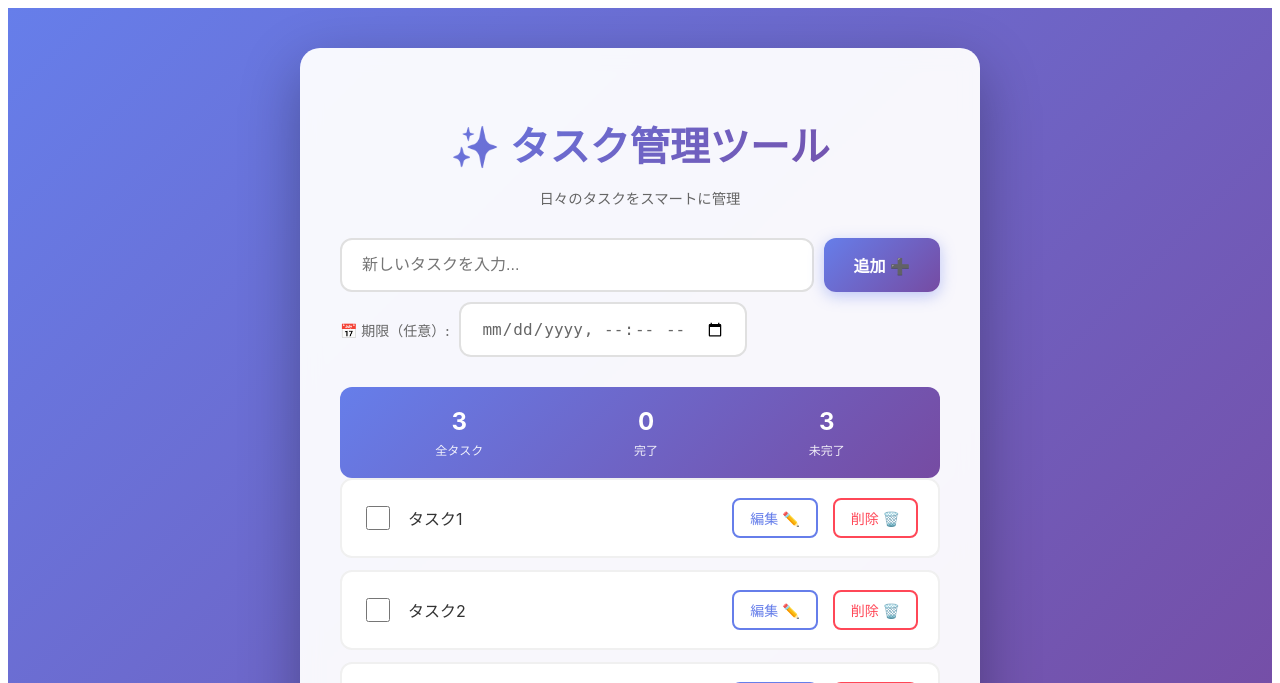
Test: App Component Tests › タスクの削除 › 複数のタスクを順番に削除できる
The width and height of the screenshot is (1280, 683).
Expected: the text "タスク1" is shown, [408,509,462,529]
Click the button "削除 🗑️" in the row of "タスク2". click: (875, 610)
box: [833,590,918,630]
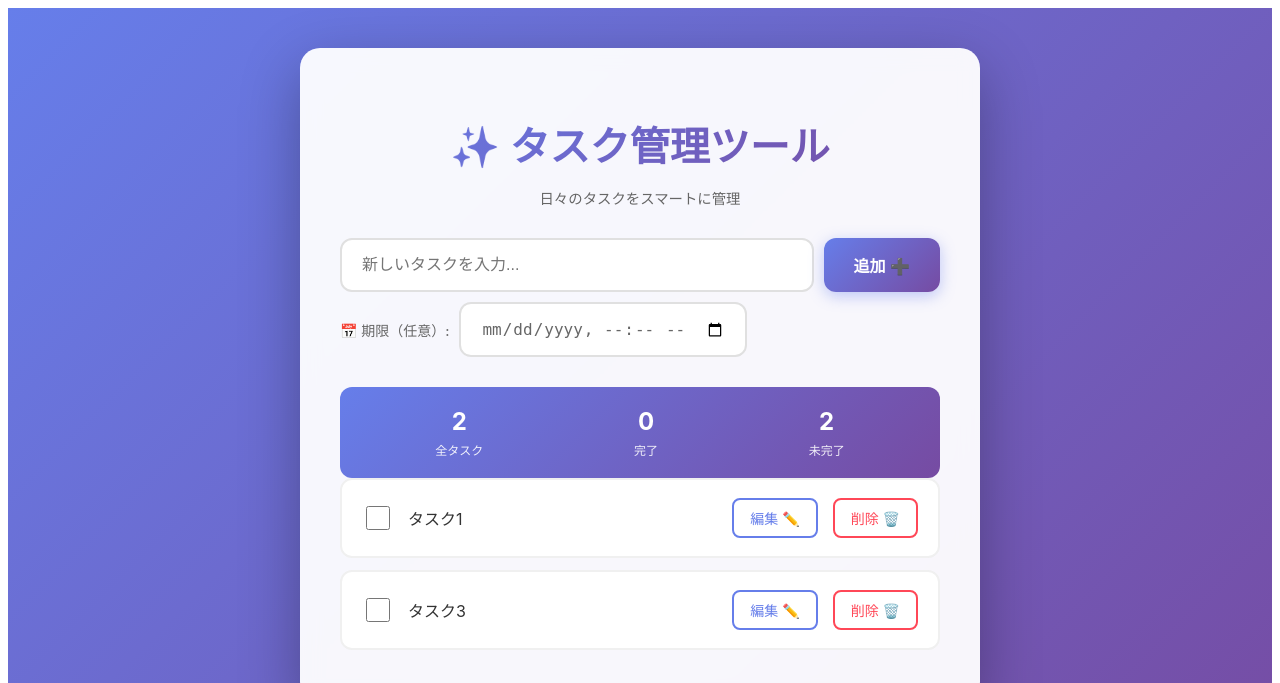
Expected: the text "タスク1" is shown, [408,509,462,529]
Expected: the text "タスク2" is gone
